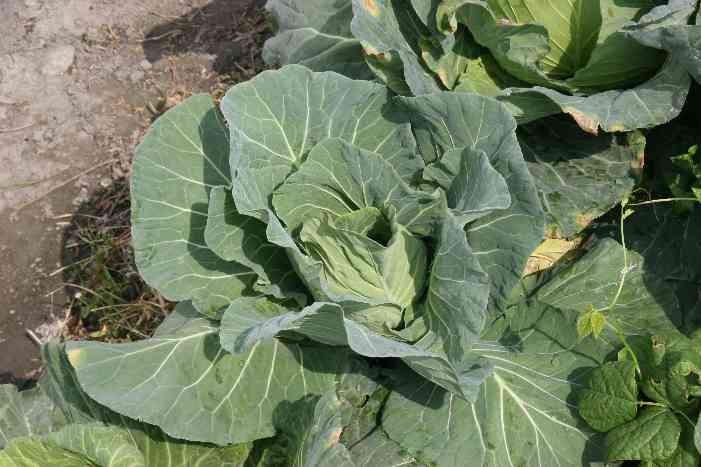cabbage: (59, 63, 699, 465)
